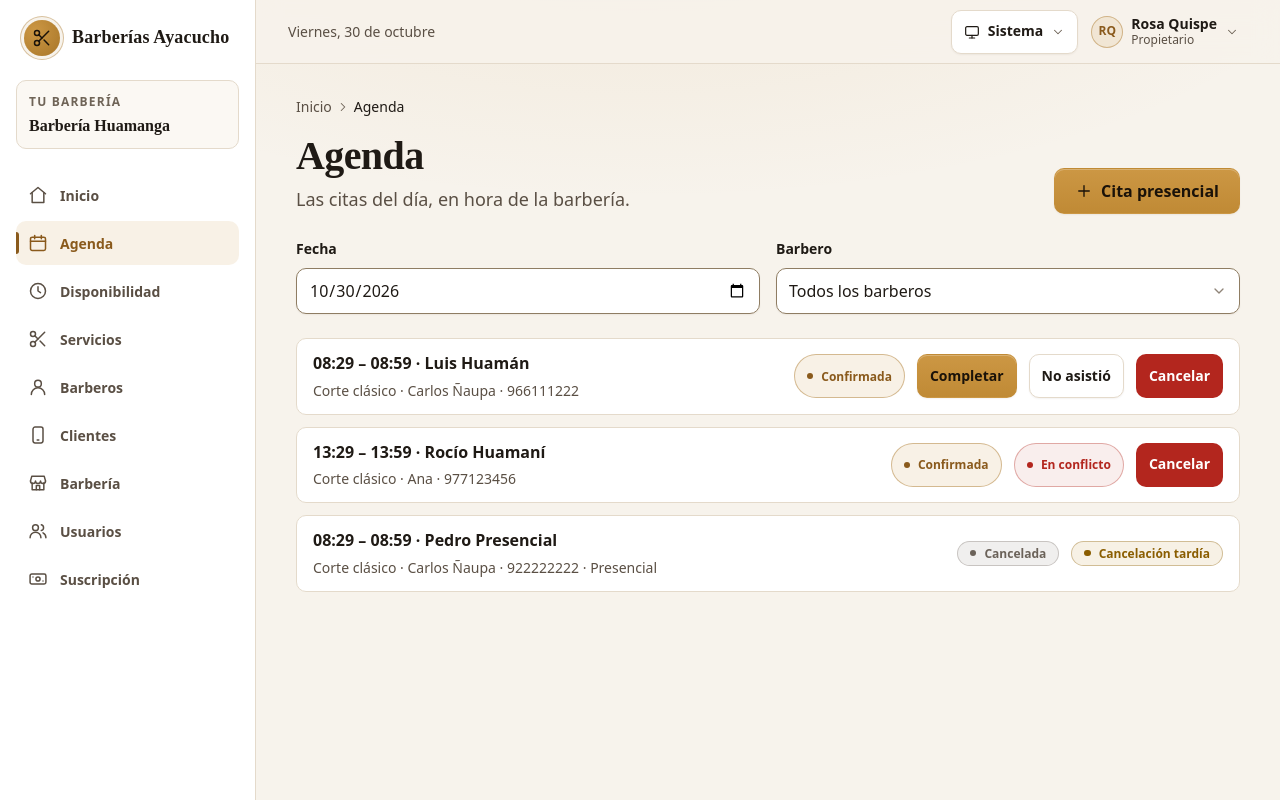
Test case: Agenda (/app/agenda) › las acciones de estado solo aparecen cuando la hora de la cita llegó
Expected: the button "No asistió" is shown, x1=1028 y1=354 x2=1124 y2=398
Click the button "Completar" at (967, 376), box x1=917 y1=354 x2=1016 y2=398
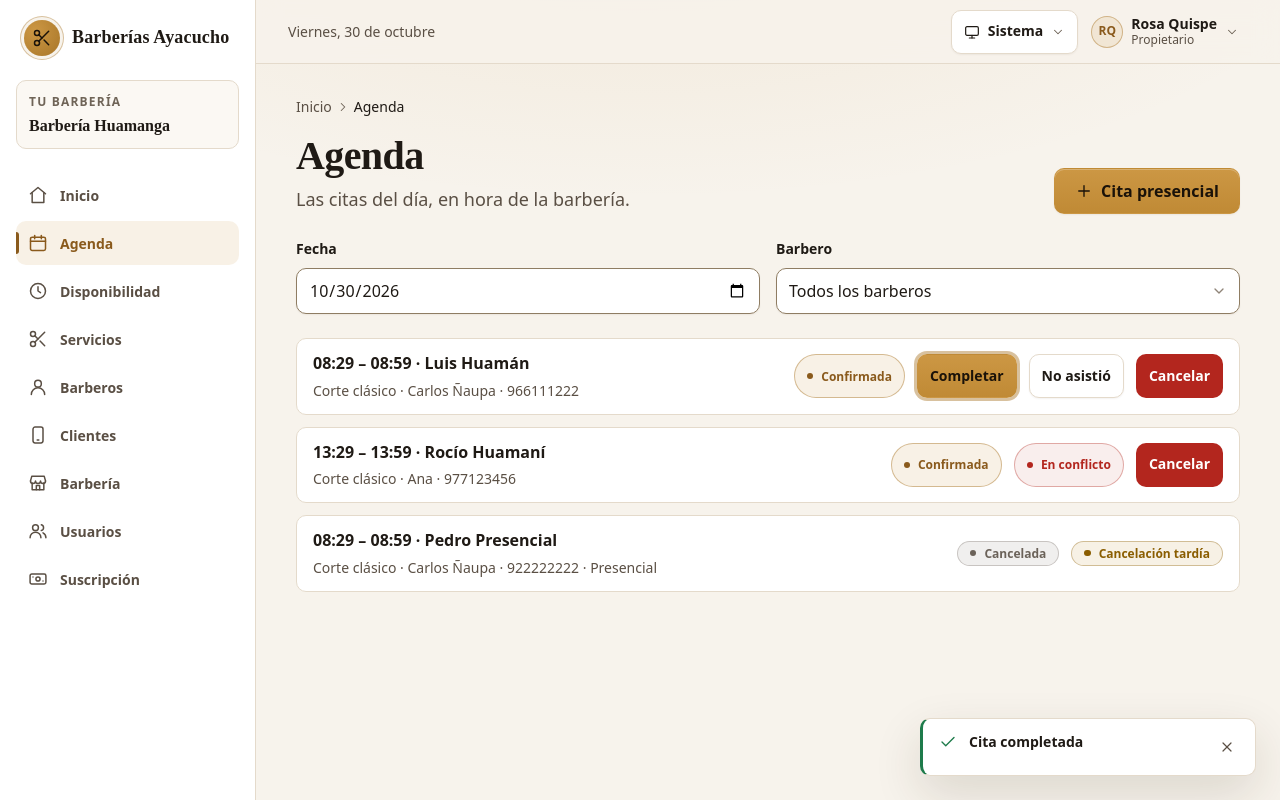
Result: the text "Cita completada" is shown at x1=969 y1=732 x2=1083 y2=751
